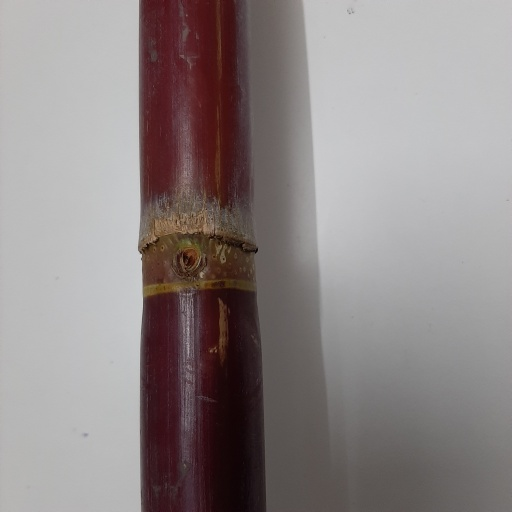Damage_Bud: (176, 246, 204, 280)
